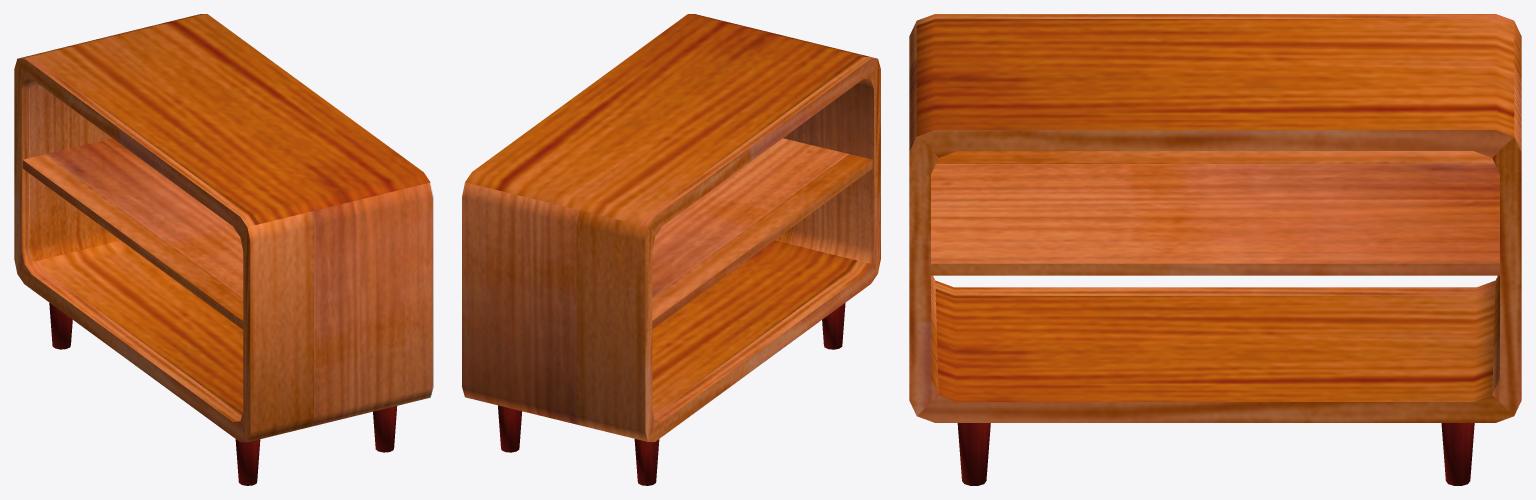
The model's file is Sofa.fbx.
3 views of the same model, side by side, from view 1: azimuth 30°, elevation 25°; view 2: azimuth 150°, elevation 25°; view 3: azimuth 270°, elevation 25° (orthographic). The views are drawn at different scales.
Parts seen in each view (by area): view 1: Cube.015; view 2: Cube.015; view 3: Cube.015.
Part boxes in pixels (<box>): Cube.015: <box>14,14,433,485</box>; Cube.015: <box>462,14,880,485</box>; Cube.015: <box>909,14,1521,485</box>.
Bounding box in the file's own units: 89.74 × 132 × 200.
1 material, 1 textured.
